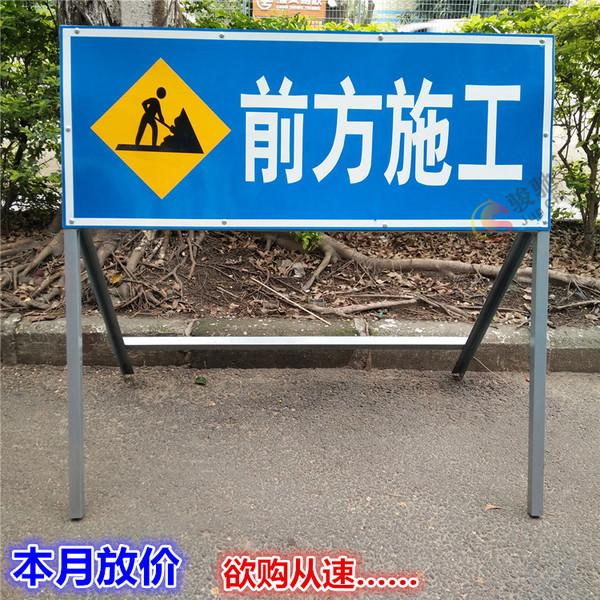sign: (69, 30, 549, 227)
